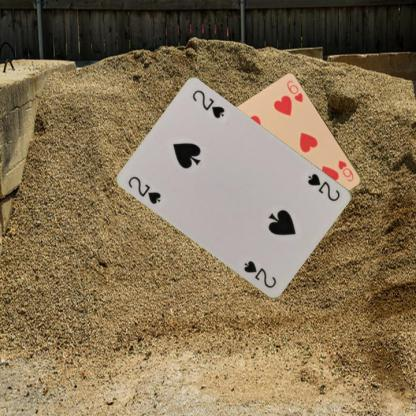2s: (125, 173, 163, 206), (305, 170, 342, 203)
6h: (336, 158, 355, 182)
